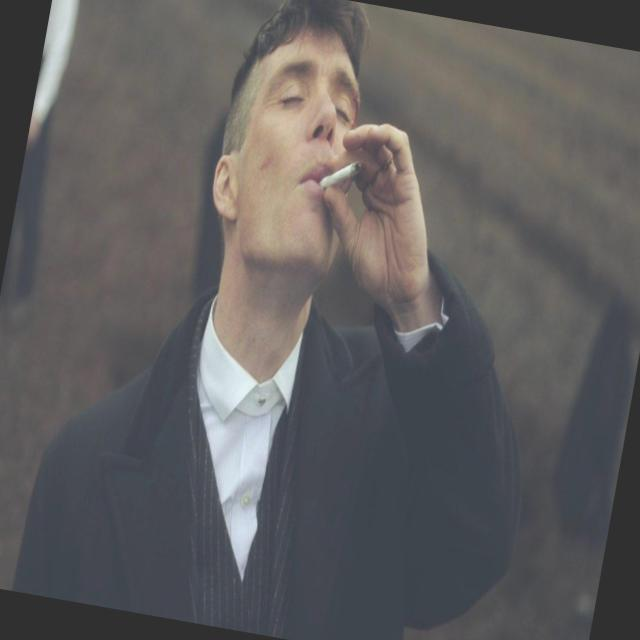cigarette: (307, 132, 373, 208)
